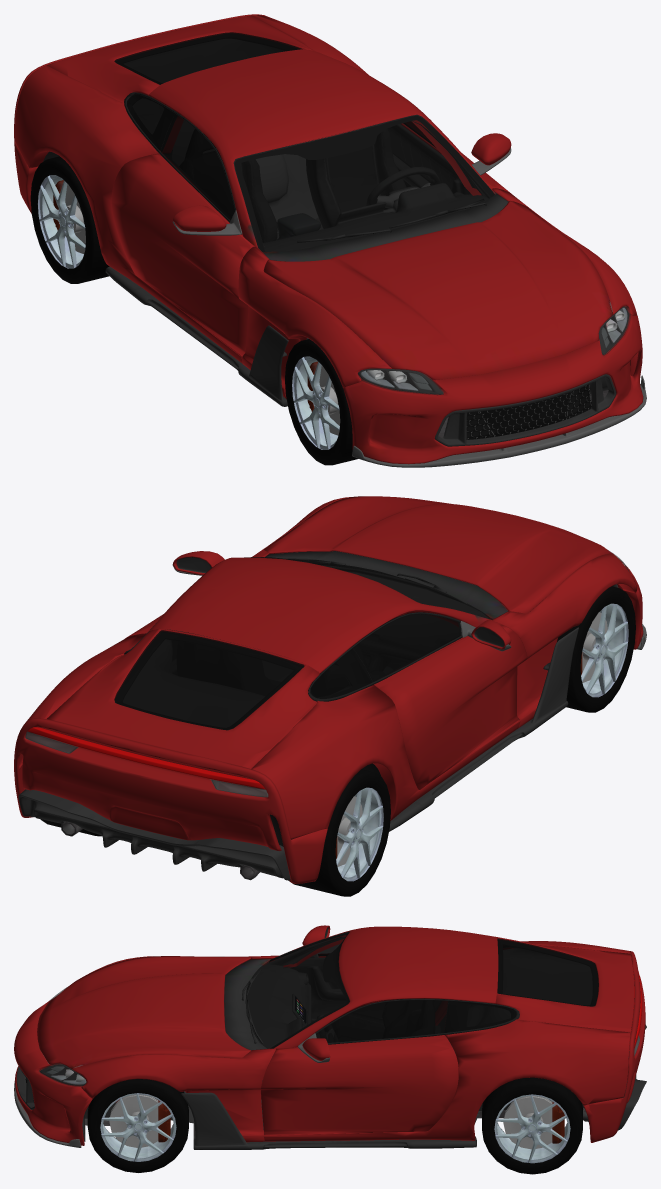
The model's file is sport-coupe-lod1.glb.
3 views of the same model, one above another, from view 1: azimuth 30°, elevation 25°; view 2: azimuth 150°, elevation 25°; view 3: azimuth 270°, elevation 25° (orthographic). The views are drawn at different scales.
Parts seen in each view (by area): view 1: body, hood, glass-windshield, front-bumper, door.r, side-fender.r, interior-roof-rear-trim, trunk, seat-back-01, glass-rear, dashboard-base, side-fender-aero.r (+22 smaller); view 2: body, rear-bumper, hood, trunk, door.r, glass-rear, side-fender.r, rear-diffusor-v2, interior-roof-rear-trim, dashboard-base, window-front.r, side-fender-aero.r (+14 smaller); view 3: body, hood, door.l, side-fender.l, glass-windshield, trunk, glass-rear, interior-roof-rear-trim, front-bumper, side-fender-aero.l, dashboard-base, window-front.l (+20 smaller).
Boxes of the visible parts, box(x1,y1,x2,y2) form: body: box(15, 15, 495, 363); hood: box(263, 201, 613, 380); glass-windshield: box(234, 116, 494, 251); front-bumper: box(343, 314, 643, 464); door.r: box(111, 153, 254, 356); side-fender.r: box(238, 246, 391, 398); interior-roof-rear-trim: box(124, 39, 490, 232); trunk: box(47, 15, 313, 105); seat-back-01: box(306, 129, 406, 228); glass-rear: box(114, 32, 302, 84); dashboard-base: box(263, 183, 488, 251); side-fender-aero.r: box(105, 266, 288, 406); body: box(19, 557, 520, 839); rear-bumper: box(14, 718, 327, 883); hood: box(264, 496, 612, 613); trunk: box(47, 628, 319, 768); door.r: box(374, 622, 527, 789); glass-rear: box(114, 630, 304, 730); side-fender.r: box(492, 553, 637, 728); rear-diffusor-v2: box(18, 789, 290, 880); interior-roof-rear-trim: box(123, 629, 351, 727); dashboard-base: box(347, 571, 488, 671); window-front.r: box(353, 612, 461, 681); side-fender-aero.r: box(389, 627, 578, 831); body: box(116, 926, 630, 1141); hood: box(37, 956, 250, 1068); door.l: box(260, 1035, 458, 1135); side-fender.l: box(72, 1048, 275, 1142); glass-windshield: box(245, 932, 349, 1048); trunk: box(495, 937, 634, 1032); glass-rear: box(497, 938, 598, 1006); interior-roof-rear-trim: box(267, 936, 591, 1053); front-bumper: box(14, 1001, 92, 1145); side-fender-aero.l: box(181, 1092, 476, 1149); dashboard-base: box(246, 964, 311, 1081); window-front.l: box(316, 998, 448, 1042).
Bounding box in the file's own units: 2.18 × 1.29 × 4.52.
19 materials, 7 textured.
